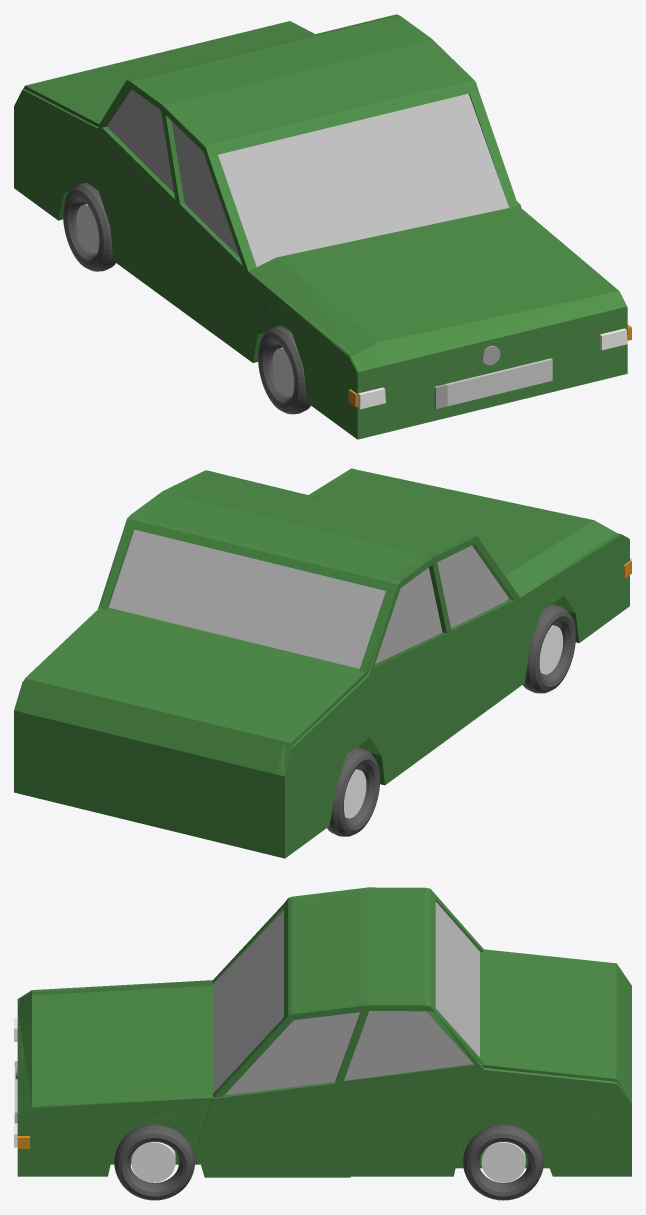
The model's file is voitures3.glb.
The picture shows the model from 3 angles, top to bottom: view 1: azimuth 30°, elevation 25°; view 2: azimuth 150°, elevation 25°; view 3: azimuth 270°, elevation 25°; orthographic projection. The views are drawn at different scales.
Parts seen in each view (by area): view 1: car24.004; view 2: car24.004; view 3: car24.004.
Part boxes in pixels (left/top/right/bottom): car24.004: left=14, top=14, right=631, bottom=439; car24.004: left=14, top=468, right=631, bottom=858; car24.004: left=14, top=887, right=631, bottom=1200.
Size of the model in its own units: 1.44 by 1.09 by 3.09.
